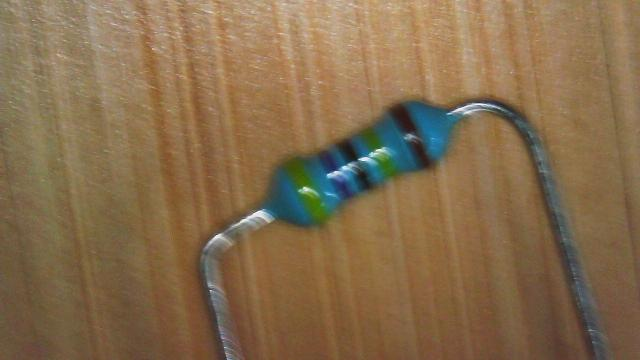black: (337, 138, 372, 190)
brown: (390, 104, 430, 168)
resistor: (258, 90, 460, 234)
violet: (320, 150, 352, 200)
yellow: (284, 158, 326, 223), (360, 127, 398, 178)
